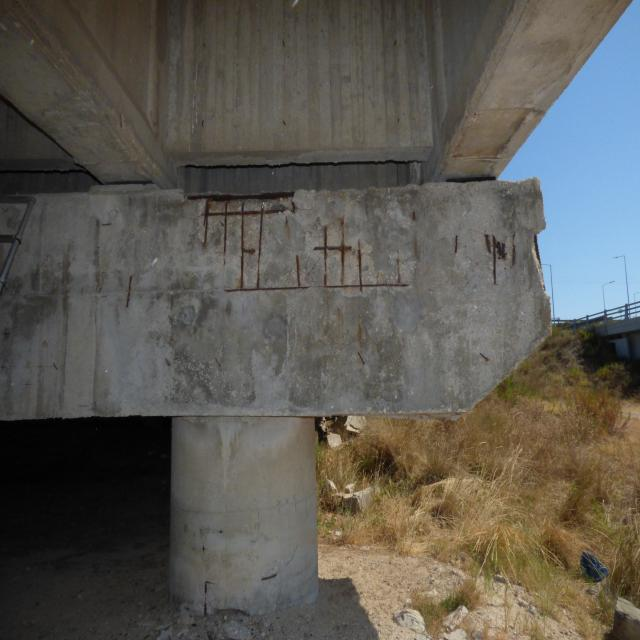corrosion: (184, 189, 426, 295), (480, 222, 523, 290), (320, 295, 350, 342), (118, 271, 140, 312), (352, 322, 371, 368), (454, 229, 464, 263), (476, 346, 493, 366)
